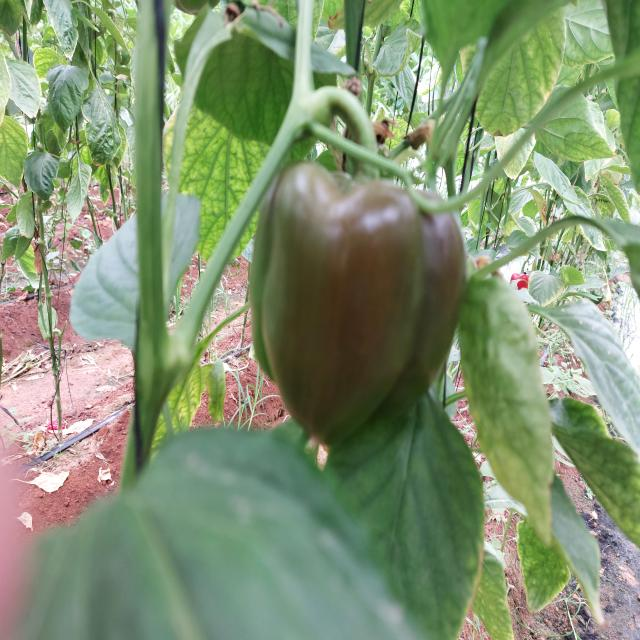BrownishRed--Can-be-Harvested: (252, 161, 461, 432)
